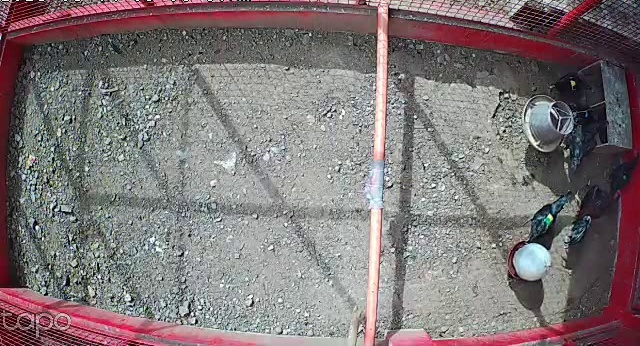Chicken: (555, 114, 611, 178), (522, 194, 567, 247), (545, 67, 598, 100), (608, 145, 640, 197)
Rooster: (563, 181, 623, 247)
Saddle_Color_Yellow: (570, 78, 577, 89)
Saddle_Color_YellowGreen: (544, 214, 554, 227)
